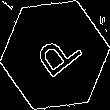P_SW: (26, 25, 84, 85)
